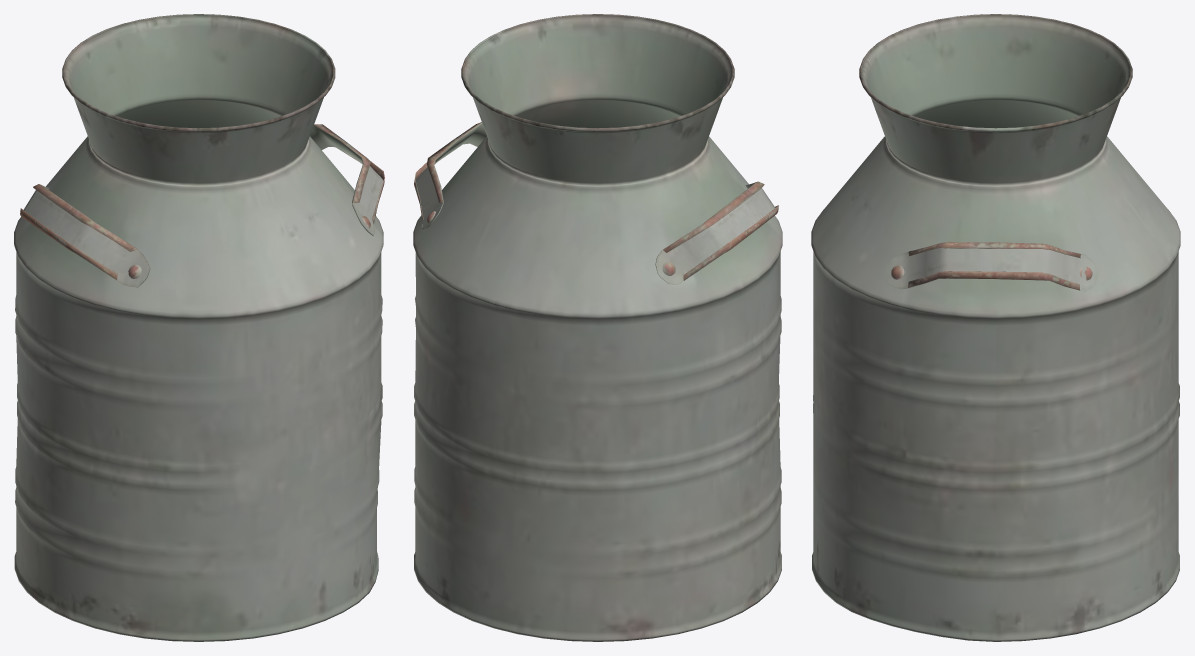
File: metal_jug.glb
The picture shows the model from 3 angles, left to right: view 1: azimuth 30°, elevation 25°; view 2: azimuth 150°, elevation 25°; view 3: azimuth 270°, elevation 25°; orthographic projection.
Visible parts, largest first — view 1: metal_jug; view 2: metal_jug; view 3: metal_jug.
Part boxes in pixels (box(x1,y1,x2,y2)): metal_jug: box(14, 14, 384, 641); metal_jug: box(413, 14, 782, 641); metal_jug: box(811, 14, 1180, 641).
Bounding box in the file's own units: 0.1968 × 0.2875 × 0.1955.
1 material, 1 textured.
